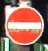No entry: (5, 5, 43, 46)
